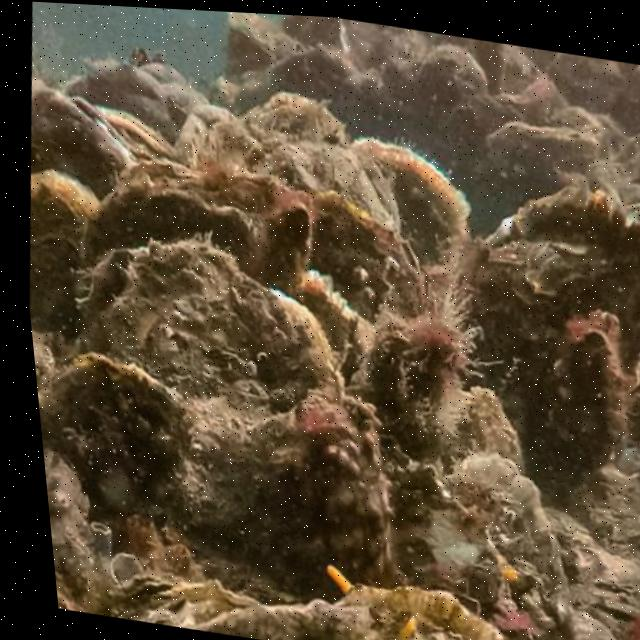Oyster-Indeterminate: (101, 243, 335, 413), (489, 192, 640, 395), (38, 356, 195, 548), (249, 396, 394, 601), (88, 177, 314, 299), (445, 458, 568, 640), (348, 134, 469, 314), (452, 240, 583, 387), (544, 309, 633, 464), (29, 170, 92, 321), (340, 585, 498, 640), (483, 120, 595, 197), (289, 144, 388, 224), (66, 63, 177, 128), (206, 600, 376, 640), (238, 92, 342, 148), (416, 49, 487, 116), (231, 12, 303, 55), (626, 393, 640, 451)
Oyster-Open: (30, 86, 130, 196)
